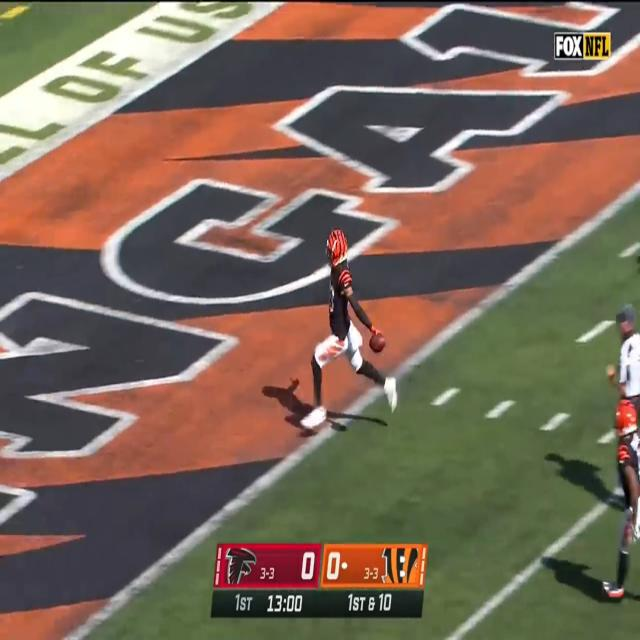Ball: (369, 331, 386, 354)
